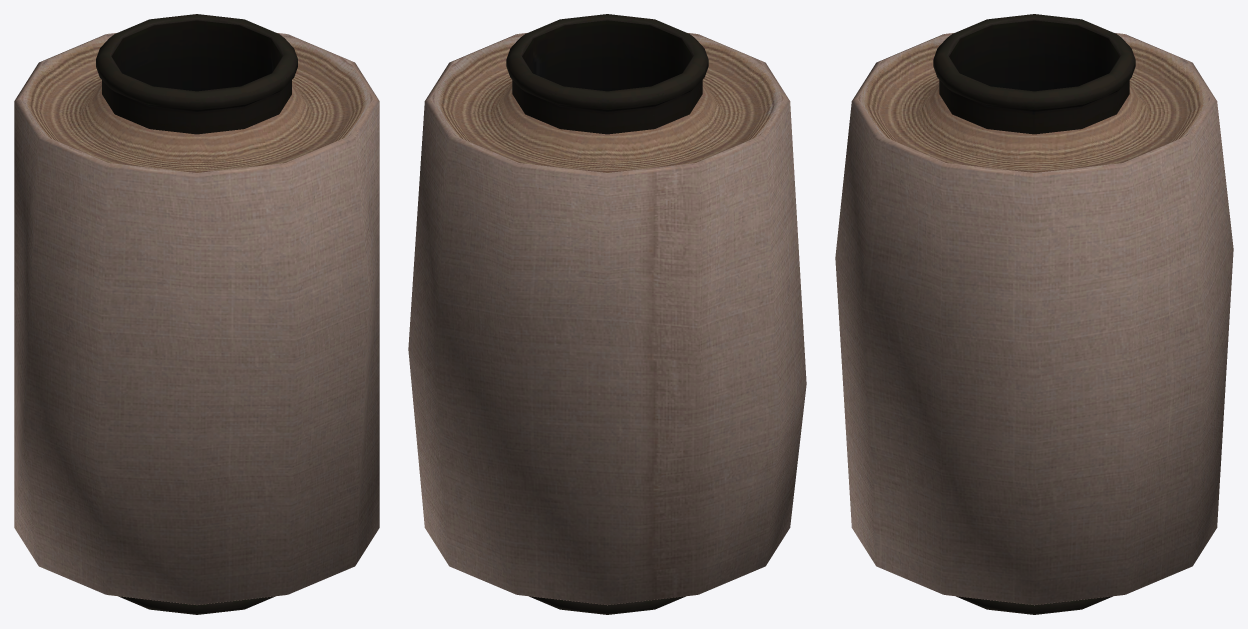
Rendered from bandages.dae.
3 views of the same model, side by side, from view 1: azimuth 30°, elevation 25°; view 2: azimuth 150°, elevation 25°; view 3: azimuth 270°, elevation 25° (orthographic).
Parts seen in each view (by area): view 1: bandageLO; view 2: bandageLO; view 3: bandageLO.
Part boxes in pixels (<box>): bandageLO: <box>14,14,379,614</box>; bandageLO: <box>408,14,806,614</box>; bandageLO: <box>835,14,1233,614</box>.
Bounding box in the file's own units: 0.4142 × 0.5974 × 0.4142.
